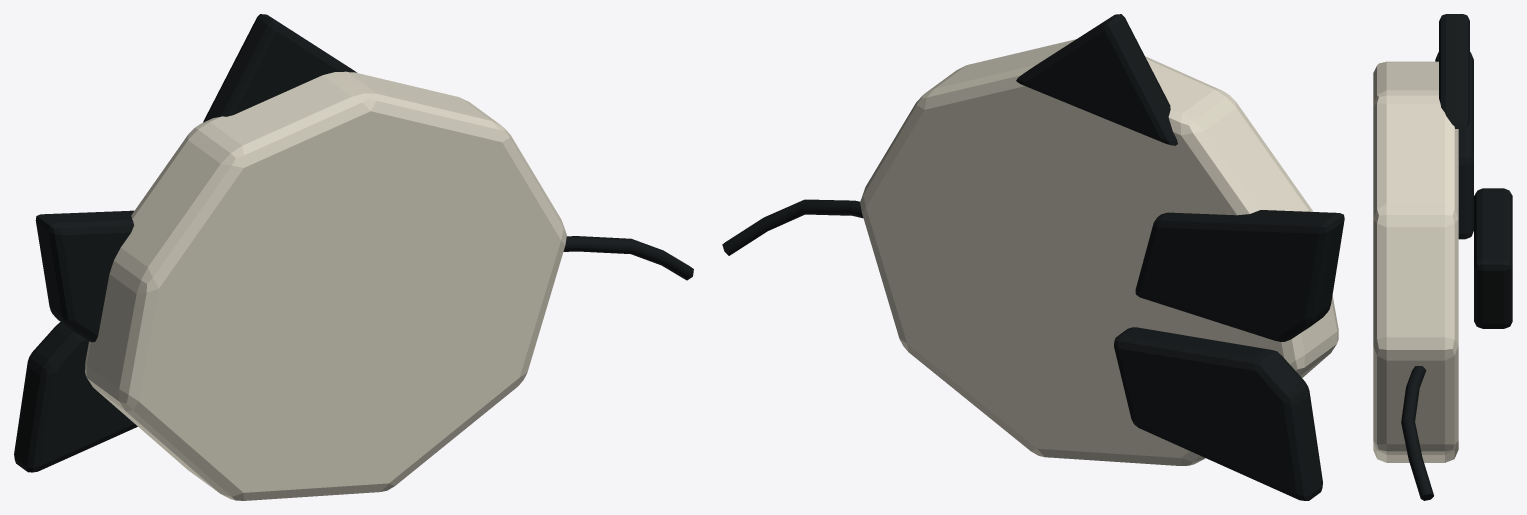
3 renders of one model, left to right at view 1: azimuth 30°, elevation 25°; view 2: azimuth 150°, elevation 25°; view 3: azimuth 270°, elevation 25°, orthographic. The views are drawn at different scales.
Parts seen in each view (by area): view 1: 32 white cinnabar koi, 32 split ink tail lower, 32 split ink tail upper, 32 black dorsal, 32 long koi whisker; view 2: 32 white cinnabar koi, 32 split ink tail lower, 32 split ink tail upper, 32 black dorsal, 32 long koi whisker; view 3: 32 white cinnabar koi, 32 split ink tail lower, 32 black dorsal, 32 split ink tail upper, 32 long koi whisker.
Part boxes in pixels (x1,y1,x2,y2): 32 white cinnabar koi: (85, 71, 566, 500); 32 split ink tail lower: (14, 322, 137, 472); 32 split ink tail upper: (35, 210, 134, 342); 32 black dorsal: (203, 14, 356, 122); 32 long koi whisker: (563, 236, 693, 280); 32 white cinnabar koi: (860, 39, 1338, 465); 32 split ink tail lower: (1114, 327, 1322, 500); 32 split ink tail upper: (1135, 210, 1344, 341); 32 black dorsal: (1016, 14, 1177, 145); 32 long koi whisker: (722, 199, 863, 255); 32 white cinnabar koi: (1373, 61, 1458, 462); 32 split ink tail lower: (1474, 188, 1512, 328); 32 black dorsal: (1439, 14, 1469, 128); 32 split ink tail upper: (1435, 52, 1473, 239); 32 long koi whisker: (1401, 366, 1433, 500).
Bounding box in the file's own units: 1.69 × 1.18 × 0.36.
